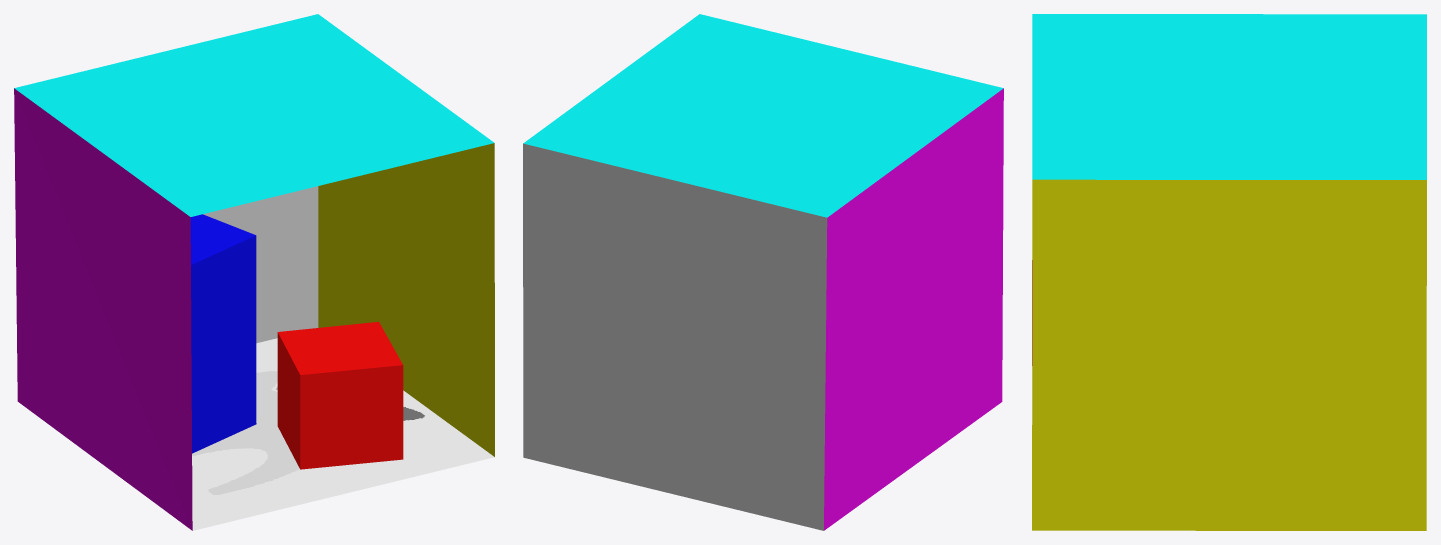
Rendered from cornell-box.glb.
The picture shows the model from 3 angles, left to right: view 1: azimuth 30°, elevation 25°; view 2: azimuth 150°, elevation 25°; view 3: azimuth 270°, elevation 25°; orthographic projection. The views are drawn at different scales.
Visible parts, largest first — view 1: left_wall, ceiling, right_wall, floor, short_box, tall_box, back_wall; view 2: back_wall, left_wall, ceiling; view 3: right_wall, ceiling.
Boxes of the visible parts, left/top/right/bottom form: left_wall: left=14, top=88, right=192, bottom=530; ceiling: left=14, top=14, right=494, bottom=216; right_wall: left=318, top=143, right=494, bottom=456; floor: left=192, top=338, right=494, bottom=530; short_box: left=277, top=322, right=403, bottom=469; tall_box: left=190, top=214, right=256, bottom=453; back_wall: left=203, top=186, right=318, bottom=343; back_wall: left=523, top=143, right=827, bottom=530; left_wall: left=824, top=88, right=1003, bottom=530; ceiling: left=523, top=14, right=1003, bottom=217; right_wall: left=1032, top=179, right=1426, bottom=530; ceiling: left=1032, top=14, right=1426, bottom=179.
Size of the model in its own units: 5.56 by 5.49 by 5.6.
8 materials, 1 textured.
